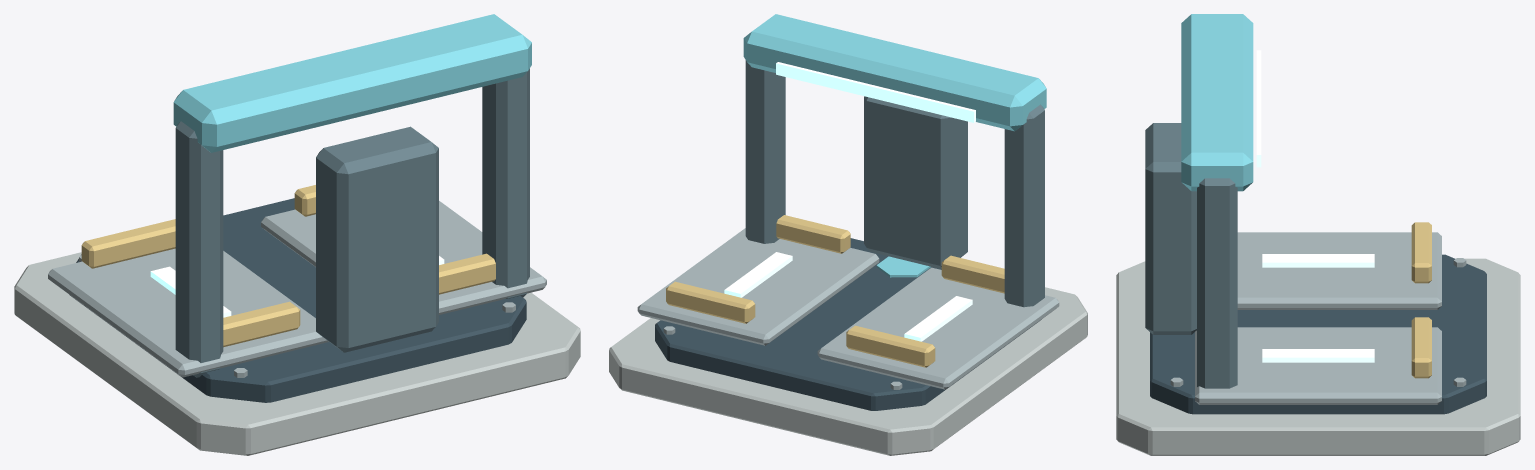
The model's file is dock.glb.
3 renders of one model, left to right at view 1: azimuth 30°, elevation 25°; view 2: azimuth 150°, elevation 25°; view 3: azimuth 270°, elevation 25°, orthographic. The views are drawn at different scales.
Visible parts, largest first — view 1: asset_dock__FP_Armour, foundation, asset_dock__FP_Team, asset_dock__FP_Steel, mount, asset_dock__FP_Hazard, asset_dock__FP_Signal; view 2: asset_dock__FP_Armour, asset_dock__FP_Steel, foundation, mount, asset_dock__FP_Team, asset_dock__FP_Hazard, asset_dock__FP_Signal, Hexagon; view 3: asset_dock__FP_Steel, foundation, asset_dock__FP_Armour, mount, asset_dock__FP_Team, asset_dock__FP_Signal, asset_dock__FP_Hazard.
Part boxes in pixels (x1,y1,x2,y2): asset_dock__FP_Armour: (175,68,529,377); foundation: (14,252,580,455); asset_dock__FP_Team: (173,14,531,152); asset_dock__FP_Steel: (48,201,546,377); mount: (70,198,526,402); asset_dock__FP_Hazard: (81,185,495,347); asset_dock__FP_Signal: (150,256,444,317); asset_dock__FP_Armour: (745,60,1044,307); asset_dock__FP_Steel: (637,228,1059,389); foundation: (609,287,1087,455); mount: (655,238,1041,410); asset_dock__FP_Team: (743,14,1046,131); asset_dock__FP_Hazard: (666,215,1004,367); asset_dock__FP_Signal: (724,62,975,341); Hexagon: (876,256,930,277); asset_dock__FP_Steel: (1170,232,1466,404); foundation: (1116,258,1520,455); asset_dock__FP_Armour: (1145,123,1237,388); mount: (1150,254,1486,414); asset_dock__FP_Team: (1181,14,1253,191); asset_dock__FP_Signal: (1256,50,1374,362); asset_dock__FP_Hazard: (1411,222,1431,378).
Size of the model in its own units: 1.8 by 1.42 by 1.8.
